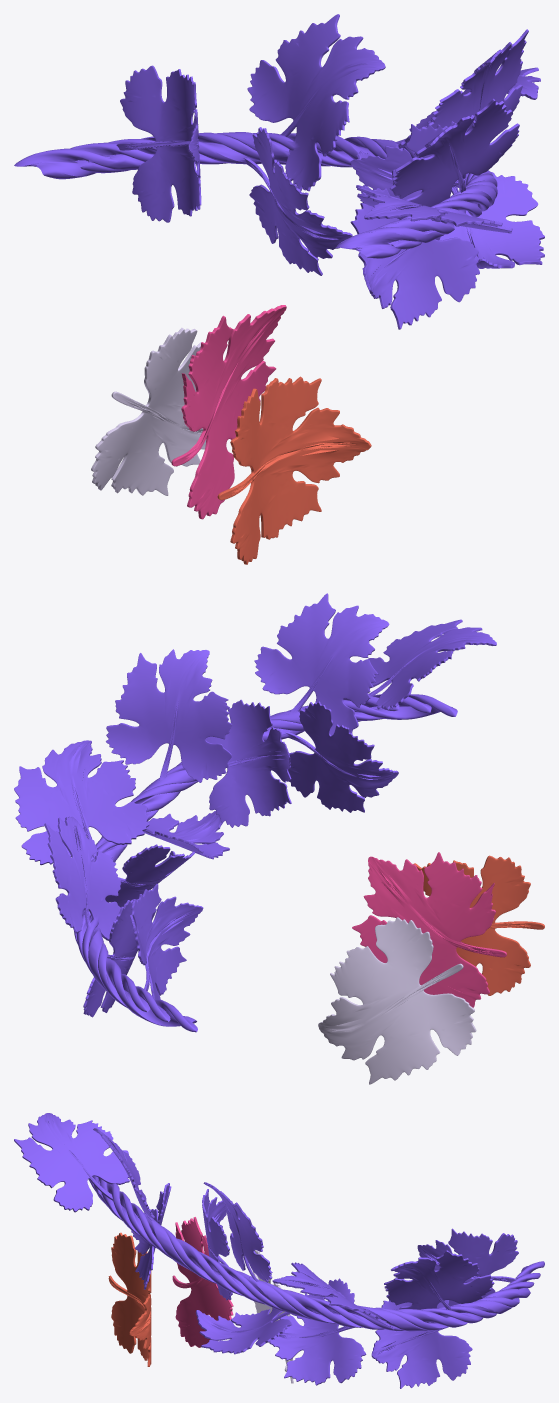
3 renders of one model, top to bottom at view 1: azimuth 30°, elevation 25°; view 2: azimuth 150°, elevation 25°; view 3: azimuth 270°, elevation 25°, orthographic. The views are drawn at different scales.
Parts seen in each view (by area): view 1: split_parent_0, split_parent_1, split_parent_2, split_parent_3; view 2: split_parent_0, split_parent_3, split_parent_2, split_parent_1; view 3: split_parent_0, split_parent_1, split_parent_2.
Boxes of the visible parts, x1,y1,x2,y2 form: split_parent_0: [14, 14, 544, 329]; split_parent_1: [217, 376, 371, 564]; split_parent_2: [171, 305, 286, 519]; split_parent_3: [91, 328, 206, 495]; split_parent_0: [14, 593, 496, 1032]; split_parent_3: [318, 917, 476, 1084]; split_parent_2: [352, 852, 506, 1007]; split_parent_1: [413, 855, 544, 995]; split_parent_0: [14, 1113, 544, 1388]; split_parent_1: [108, 1232, 151, 1366]; split_parent_2: [172, 1217, 233, 1347].
Bounding box in the file's own units: 0.7542 × 0.6481 × 1.
